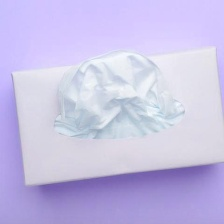book: (4, 40, 223, 192)
tissue: (47, 43, 189, 146)
